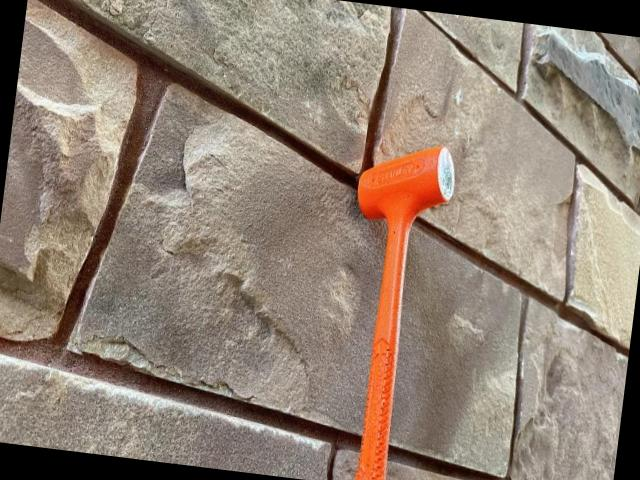hammer: (318, 135, 460, 480)
